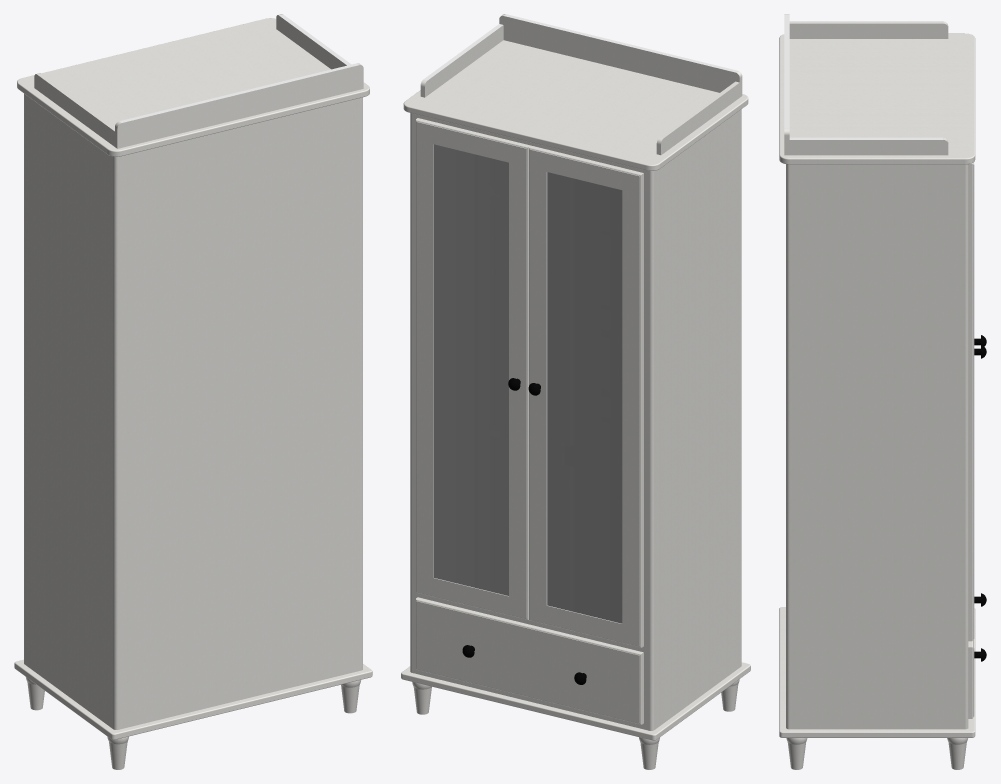
File: Wardrobe.glb
3 renders of one model, left to right at view 1: azimuth 30°, elevation 25°; view 2: azimuth 150°, elevation 25°; view 3: azimuth 270°, elevation 25°, orthographic. The views are drawn at different scales.
Visible parts, largest first — view 1: ID3; view 2: ID3, ID36; view 3: ID3, ID36, ID5, ID5_node_1.
Part boxes in pixels (bbox=[...]): ID3: bbox=[14, 14, 372, 739]; ID3: bbox=[401, 14, 750, 740]; ID36: bbox=[416, 597, 643, 724]; ID3: bbox=[779, 14, 975, 737]; ID36: bbox=[968, 639, 974, 718]; ID5: bbox=[786, 738, 807, 769]; ID5_node_1: bbox=[947, 738, 967, 769].
Bounding box in the file's own units: 0.88 × 2.09 × 0.6138.
6 materials, 4 textured.
